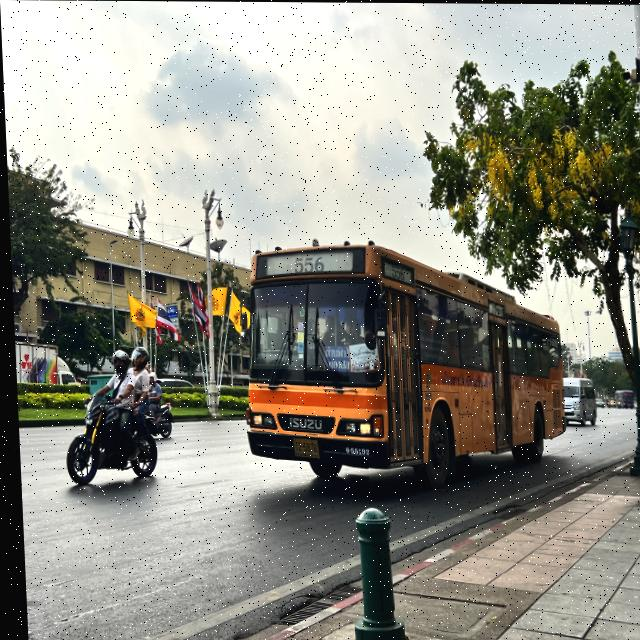BMTA-bus: (243, 243, 562, 490)
Bus Line Number: (288, 256, 327, 275), (386, 260, 405, 282)
Bus Side Number: (338, 443, 369, 460)
Destination Sign: (320, 345, 348, 371)
TSB-Bus: (616, 391, 632, 406)
